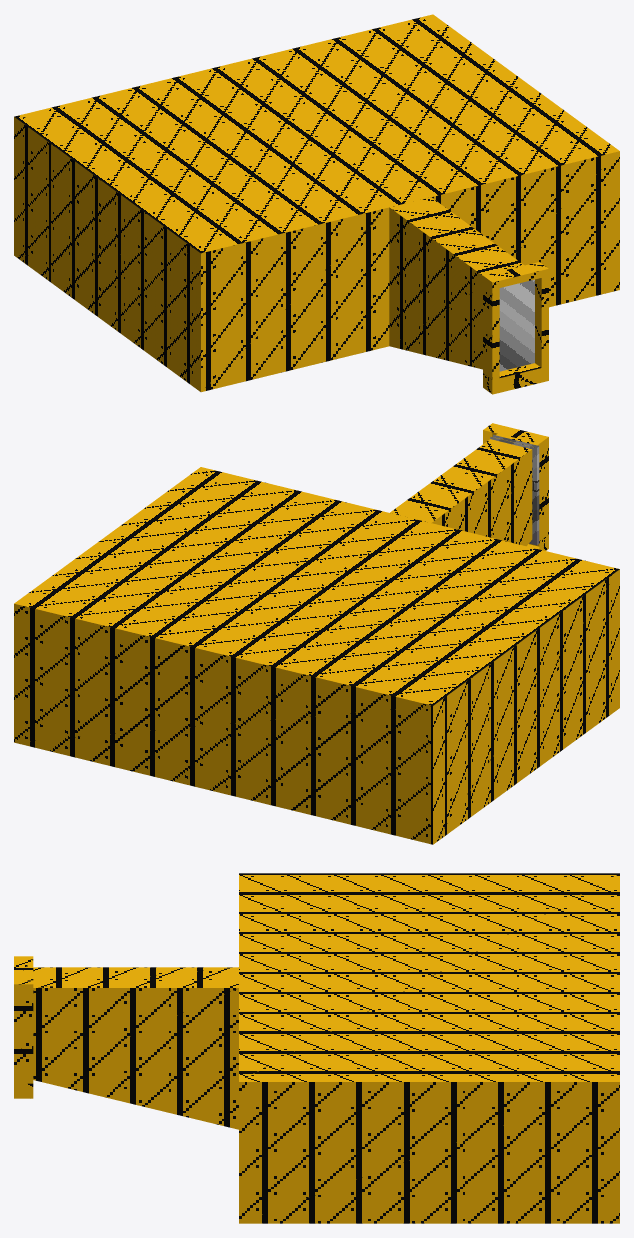
Rendered from end_door.glb.
3 views of the same model, one above another, from view 1: azimuth 30°, elevation 25°; view 2: azimuth 150°, elevation 25°; view 3: azimuth 270°, elevation 25° (orthographic).
Visible parts, largest first — view 1: Plane, Cube; view 2: Plane, Cube; view 3: Plane.
Boxes of the visible parts, x1,y1,x2,y2 form: Plane: [14, 14, 619, 394]; Cube: [499, 279, 534, 371]; Plane: [14, 423, 619, 844]; Cube: [490, 434, 539, 545]; Plane: [14, 873, 619, 1223].
Bounding box in the file's own units: 180 × 60.32 × 221.
3 materials, 2 textured.
